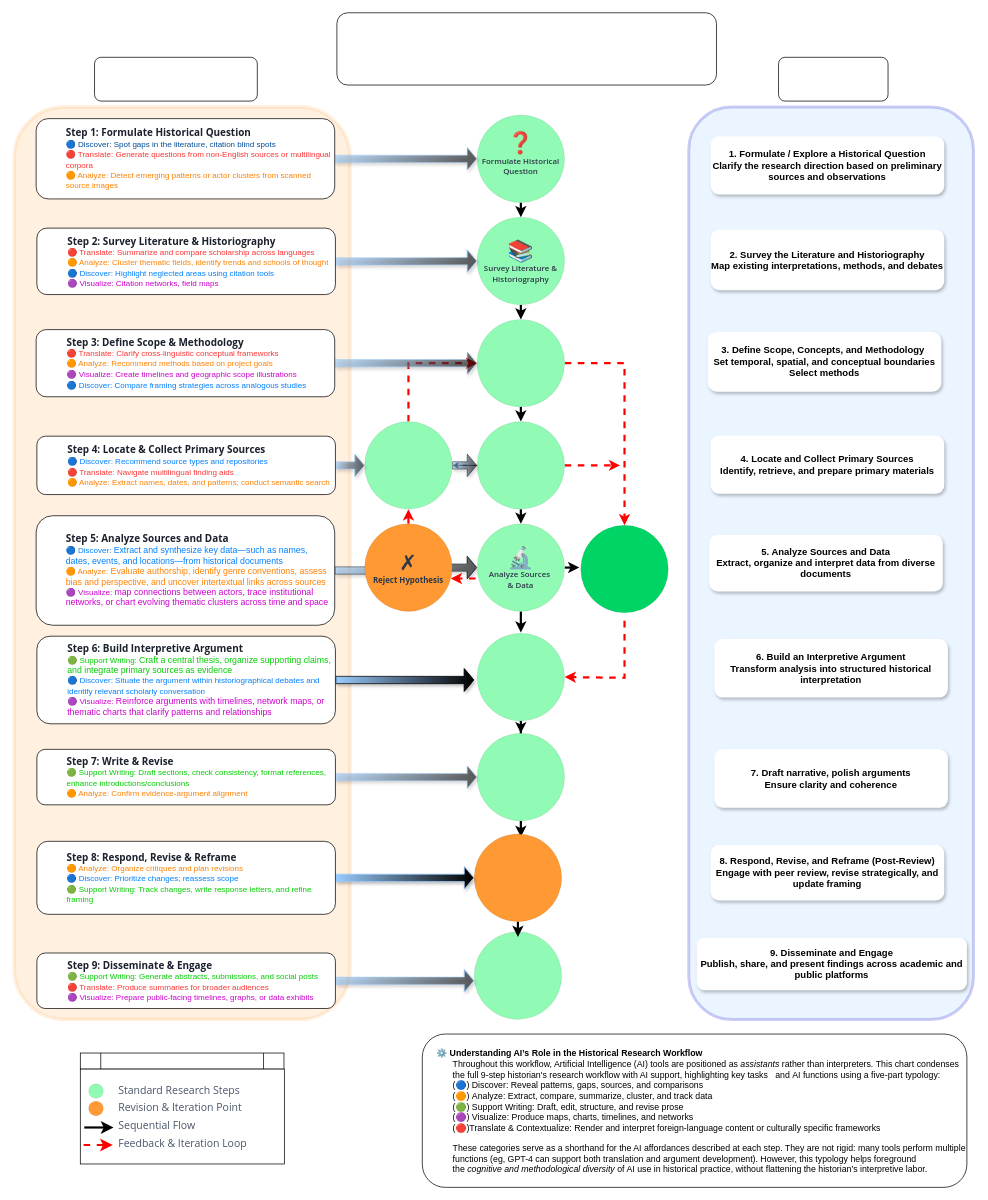
Image size: 988x1200. Some labels were removed from this diagram. Here are the shapes that lost their labels. From the top down, the centre of each, then its label:
(526,48): The AI-Augmented Historical Research Process
(175,79): AI Support at Each Step
(833,79): Research Steps
(520,363): 🎯 Define Scope & Methodology
(408,465): 🔄 Iterate the Process
(520,465): 🔍 Locate & Collect Primary Sources
(624,568): ✓ Validate Hypothesis
(520,677): 🏗️ Build Interpretive Argument
(520,777): ✍️ Write & Revise
(517,877): 📝 Respond, Revise & Reframe
(517,975): 📢 Disseminate & Engage
(182,1060): Process Flow Legend
